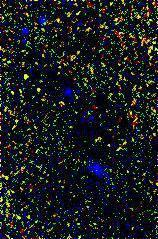star: (11, 60, 41, 90)
